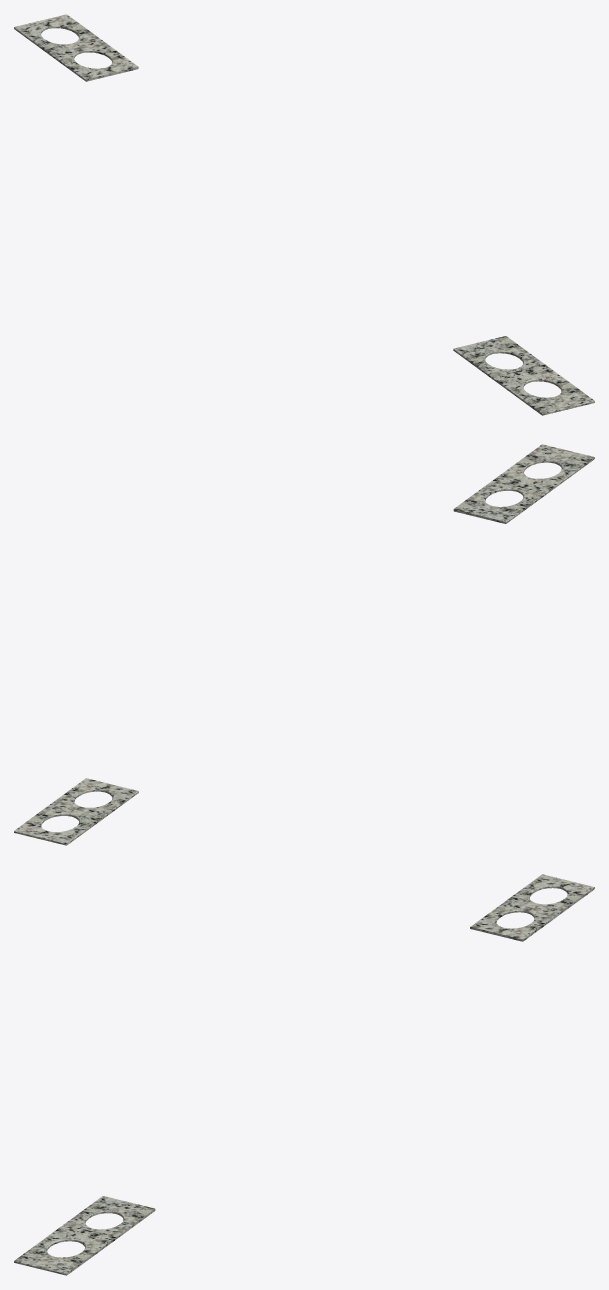
The model's file is Countertops_GraniteValleNevado_.glb.
The picture shows the model from 3 angles, top to bottom: view 1: azimuth 30°, elevation 25°; view 2: azimuth 150°, elevation 25°; view 3: azimuth 330°, elevation 25°; orthographic projection.
Parts seen in each view (by area): view 1: Countertops_Granite Valle Nevado_; view 2: Countertops_Granite Valle Nevado_; view 3: Countertops_Granite Valle Nevado_.
Boxes of the visible parts, <box> form: Countertops_Granite Valle Nevado_: <box>14,14,594,415</box>; Countertops_Granite Valle Nevado_: <box>14,444,594,845</box>; Countertops_Granite Valle Nevado_: <box>14,874,594,1275</box>.
Bounding box in the file's own units: 0.9958 × 0.04 × 17.25.
Materials: 1 (1 with a texture image).
